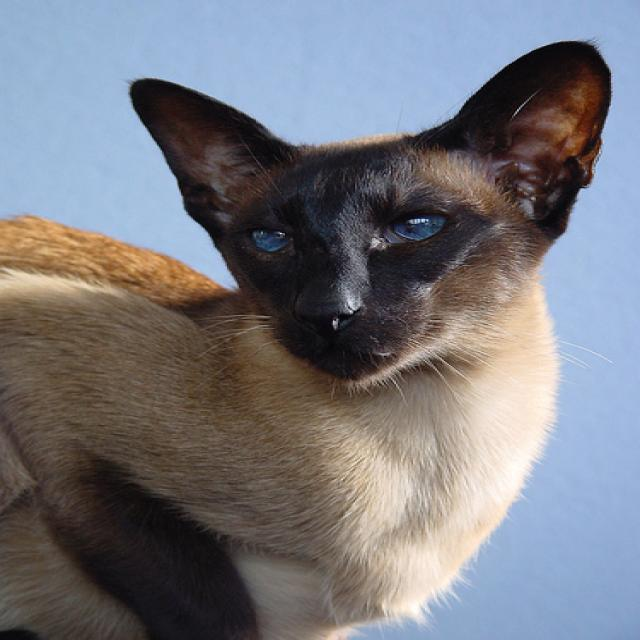left eye: (384, 208, 451, 244)
